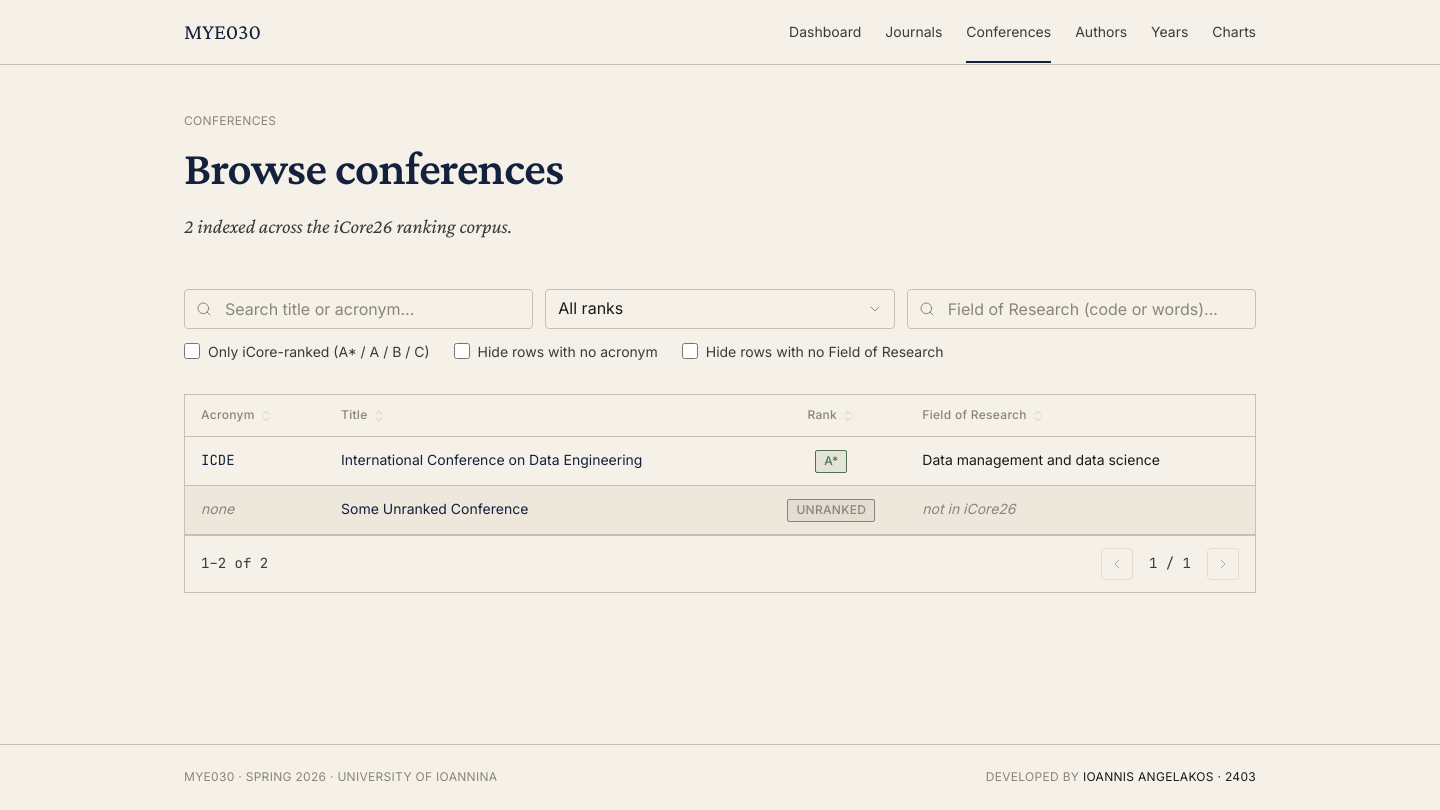
Test: /conferences list › hides unranked conferences when the toggle is on
Expected: the link "Some Unranked Conference" is shown, left=341, top=500, right=528, bottom=517
Step 1. Click the checkbox labelled "Only iCore-ranked (A* / A / B / C)" → (192, 351), box left=184, top=343, right=200, bottom=359
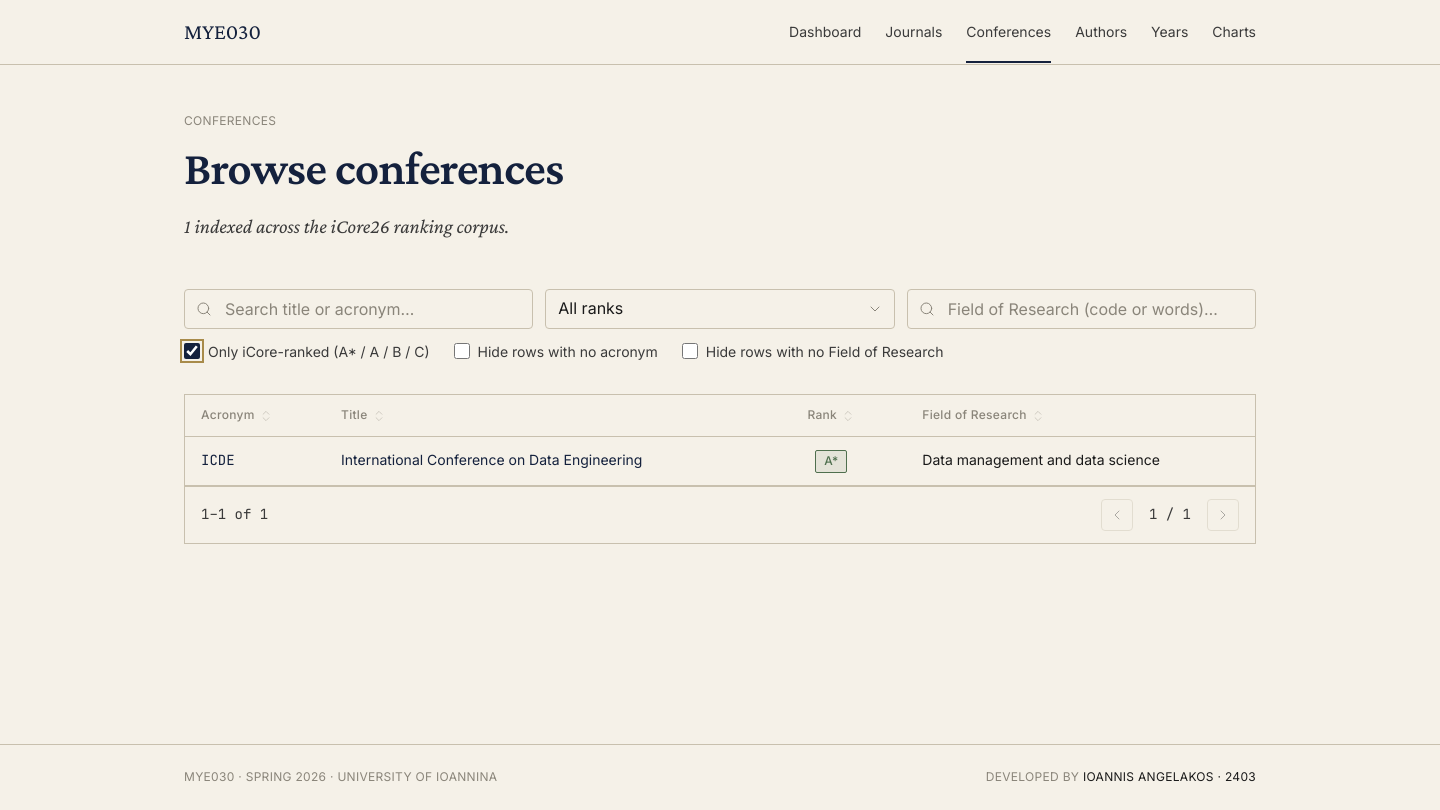
Expected: the link "International Conference on Data Engineering" is shown, left=341, top=451, right=642, bottom=468
Expected: the link "Some Unranked Conference" is gone
